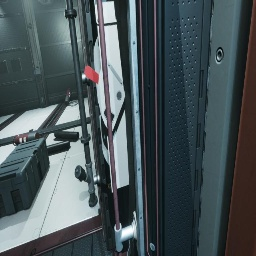NitrogenTank ,: (13, 132, 40, 146), (65, 88, 71, 106)
SafetySwitchPanel ,: (85, 0, 129, 193)
